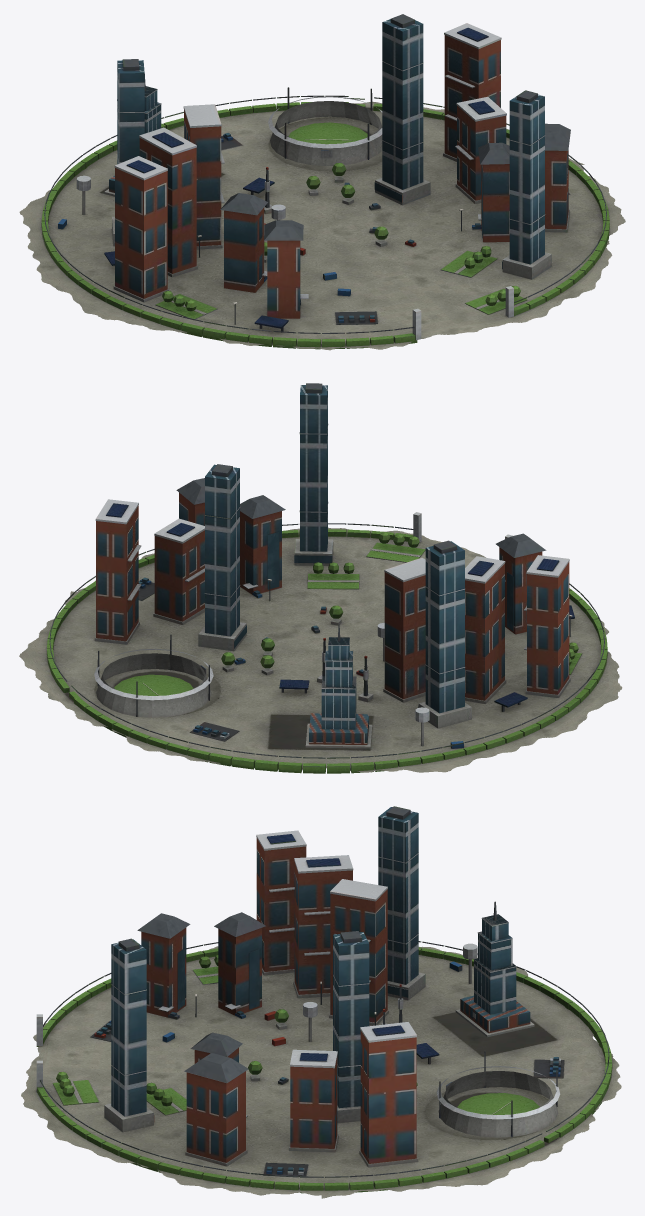
The model's file is information-town-medium-a-europe.glb.
3 renders of one model, top to bottom at view 1: azimuth 30°, elevation 25°; view 2: azimuth 150°, elevation 25°; view 3: azimuth 270°, elevation 25°, orthographic. The views are drawn at different scales.
Visible parts, largest first — view 1: LOD0; view 2: LOD0; view 3: LOD0.
Part boxes in pixels (left/top/right/bottom): LOD0: left=19, top=14, right=625, bottom=350; LOD0: left=19, top=383, right=622, bottom=773; LOD0: left=21, top=806, right=621, bottom=1198.
Size of what is drawn, in the model's own units: 5.94 by 1.88 by 5.8.
3 materials, 3 textured.
